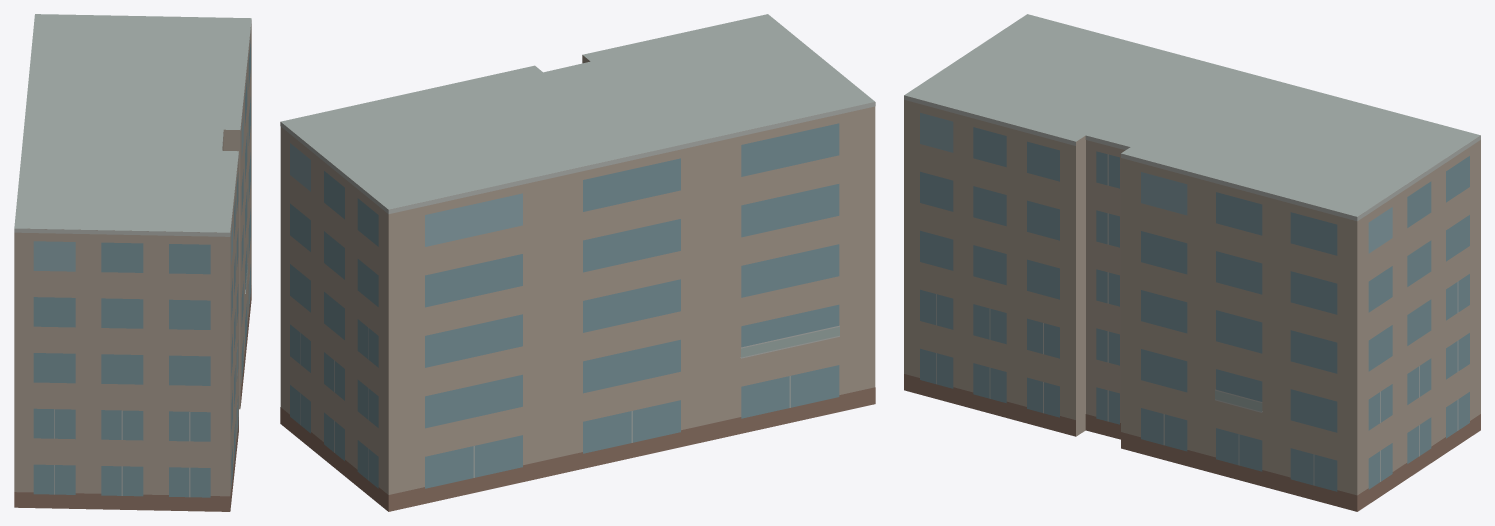
File: survey-upis-32672398.glb
The picture shows the model from 3 angles, left to right: view 1: azimuth 30°, elevation 25°; view 2: azimuth 150°, elevation 25°; view 3: azimuth 270°, elevation 25°; orthographic projection. The views are drawn at different scales.
Parts seen in each view (by area): view 1: survey-upis-32672398.tmp; view 2: survey-upis-32672398.tmp; view 3: survey-upis-32672398.tmp.
Part boxes in pixels (x1,y1,x2,y2): survey-upis-32672398.tmp: (14, 14, 251, 511); survey-upis-32672398.tmp: (280, 14, 875, 511); survey-upis-32672398.tmp: (904, 14, 1480, 511).
Bounding box in the file's own units: 24.01 × 16.27 × 28.84.
